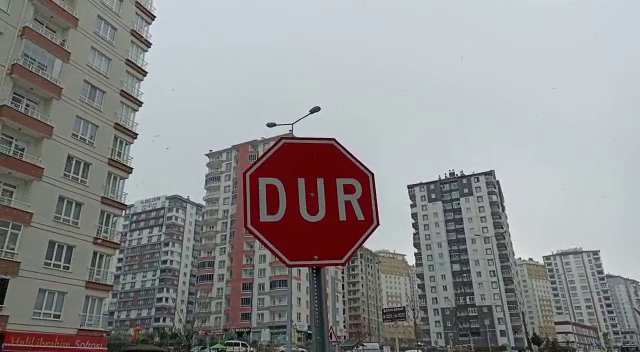stop: (239, 134, 385, 271)
